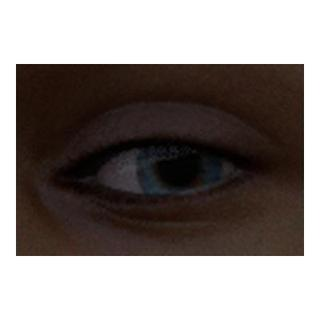pupil: (161, 149, 198, 186)
